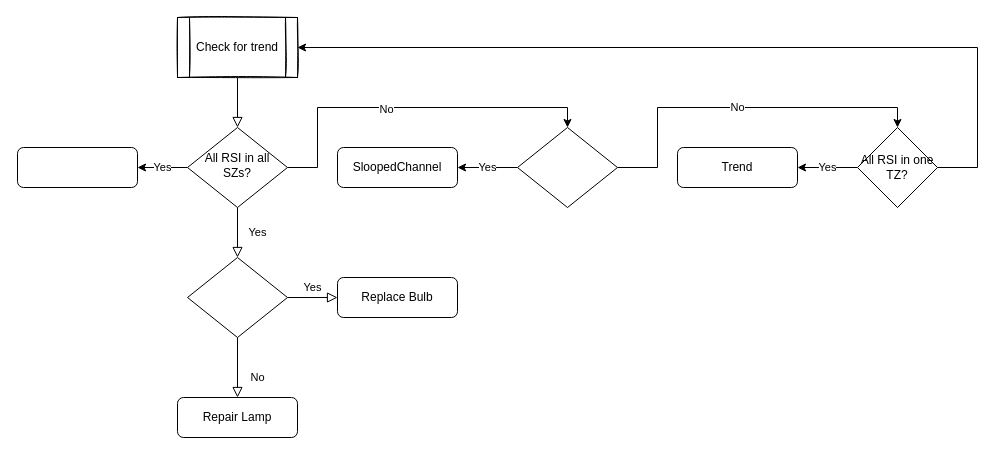
The diagram is 1003 pixels wide and 455 high, and some of its shapes have lost their labels. The box of each missing label's shape, as (x1, y1, x2, y2) in pixels:
All RSI in one SZ?: (516, 126, 618, 208)
Bulb burned out?: (186, 256, 288, 338)
Flat: (16, 146, 138, 188)
